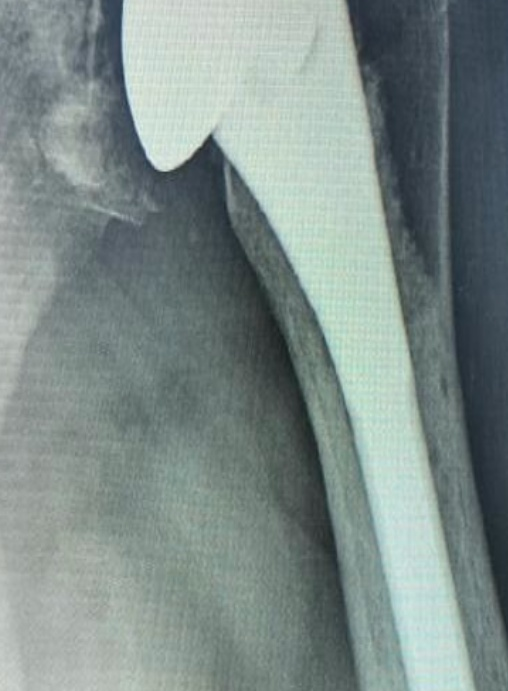Shoulder - Anotomical - Stryker: (113, 1, 381, 183)
